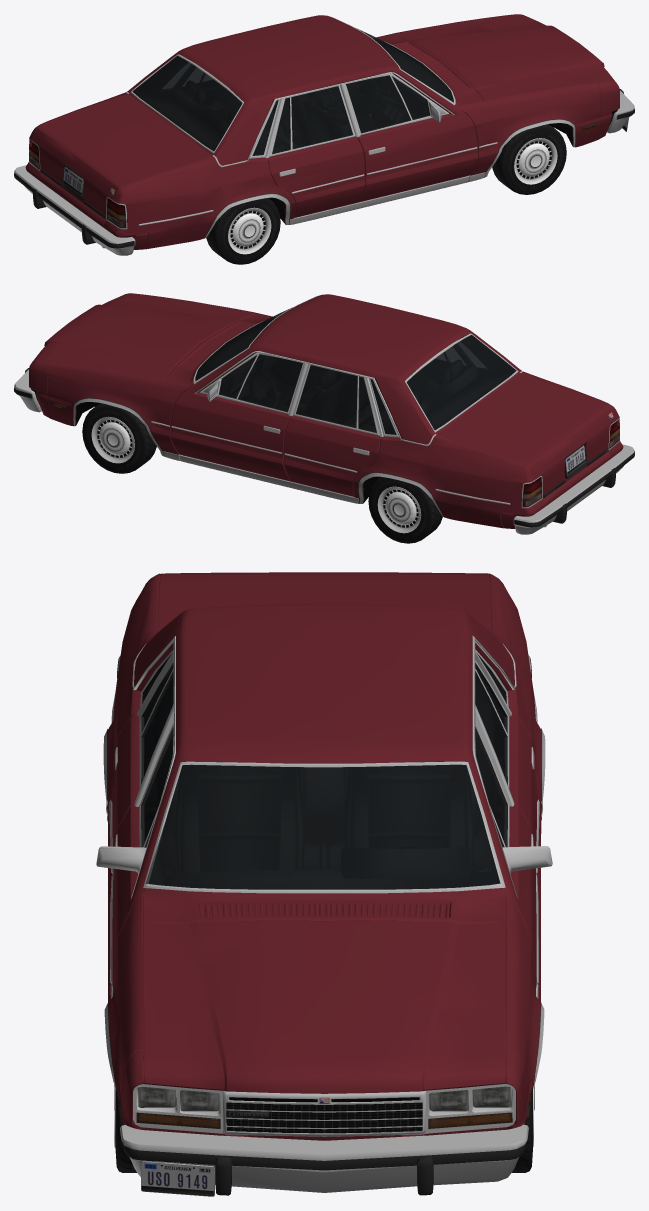
The model's file is fairheaven-sedan.glb.
The picture shows the model from 3 angles, top to bottom: view 1: azimuth 30°, elevation 25°; view 2: azimuth 150°, elevation 25°; view 3: azimuth 270°, elevation 25°; orthographic projection. The views are drawn at different scales.
Visible parts, largest first — view 1: Fairheaven_LT80_Hood_Fairheaven_LT80_Bodymat_0, Fairheaven_LT80_Taillights_Glass_UCB_Lights_and_Glass_Transp, Fairheaven_LT80_Interior_Trim_UCB_Interior_Trim_0, Fairheaven_LT80_bumper_rear_UCB_BOTTOM_GT_0, Fairheaven_LT80_WheelHubcaps_FL_RB1c_Tire_1k_0, Fairheaven_LT80_Headlights_UCB_Lights_and_Glass_0, Fairheaven_LT80_Numberplate_Rear_Numberplates_Misk_U_0; view 2: Fairheaven_LT80_Hood_Fairheaven_LT80_Bodymat_0, Fairheaven_LT80_Taillights_Glass_UCB_Lights_and_Glass_Transp, Fairheaven_LT80_Interior_Trim_UCB_Interior_Trim_0, Fairheaven_LT80_bumper_rear_UCB_BOTTOM_GT_0, Fairheaven_LT80_WheelHubcaps_FL_RB1c_Tire_1k_0, Fairheaven_LT80_Headlights_UCB_Lights_and_Glass_0, Fairheaven_LT80_Numberplate_Rear_Numberplates_Misk_U_0; view 3: Fairheaven_LT80_Hood_Fairheaven_LT80_Bodymat_0, Fairheaven_LT80_Taillights_Glass_UCB_Lights_and_Glass_Transp, Fairheaven_LT80_bumper_rear_UCB_BOTTOM_GT_0, Fairheaven_LT80_Interior_Trim_UCB_Interior_Trim_0, Fairheaven_LT80_Headlights_UCB_Lights_and_Glass_0, Fairheaven_LT80_Numberplate_Rear_Numberplates_Misk_U_0, Fairheaven_LT80_WheelHubcaps_FL_RB1c_Tire_1k_0.
Boxes of the visible parts, x1,y1,x2,y2 form: Fairheaven_LT80_Hood_Fairheaven_LT80_Bodymat_0: (25, 14, 619, 249); Fairheaven_LT80_Taillights_Glass_UCB_Lights_and_Glass_Transp: (29, 28, 453, 226); Fairheaven_LT80_Interior_Trim_UCB_Interior_Trim_0: (40, 39, 453, 207); Fairheaven_LT80_bumper_rear_UCB_BOTTOM_GT_0: (14, 17, 634, 255); Fairheaven_LT80_WheelHubcaps_FL_RB1c_Tire_1k_0: (206, 124, 566, 264); Fairheaven_LT80_Headlights_UCB_Lights_and_Glass_0: (29, 140, 126, 228); Fairheaven_LT80_Numberplate_Rear_Numberplates_Misk_U_0: (63, 118, 628, 196); Fairheaven_LT80_Hood_Fairheaven_LT80_Bodymat_0: (29, 293, 623, 528); Fairheaven_LT80_Taillights_Glass_UCB_Lights_and_Glass_Transp: (195, 307, 619, 505); Fairheaven_LT80_Interior_Trim_UCB_Interior_Trim_0: (195, 319, 515, 434); Fairheaven_LT80_bumper_rear_UCB_BOTTOM_GT_0: (14, 295, 634, 534); Fairheaven_LT80_WheelHubcaps_FL_RB1c_Tire_1k_0: (82, 403, 442, 543); Fairheaven_LT80_Headlights_UCB_Lights_and_Glass_0: (522, 418, 619, 507); Fairheaven_LT80_Numberplate_Rear_Numberplates_Misk_U_0: (565, 445, 585, 475); Fairheaven_LT80_Hood_Fairheaven_LT80_Bodymat_0: (107, 572, 541, 1140); Fairheaven_LT80_Taillights_Glass_UCB_Lights_and_Glass_Transp: (136, 653, 512, 1128); Fairheaven_LT80_bumper_rear_UCB_BOTTOM_GT_0: (96, 635, 552, 1195); Fairheaven_LT80_Interior_Trim_UCB_Interior_Trim_0: (142, 655, 506, 893); Fairheaven_LT80_Headlights_UCB_Lights_and_Glass_0: (138, 1087, 510, 1111); Fairheaven_LT80_Numberplate_Rear_Numberplates_Misk_U_0: (140, 1161, 214, 1196); Fairheaven_LT80_WheelHubcaps_FL_RB1c_Tire_1k_0: (114, 753, 534, 1172).
Size of the model in its own units: 5 by 1.35 by 1.83.
8 materials, 7 textured.
